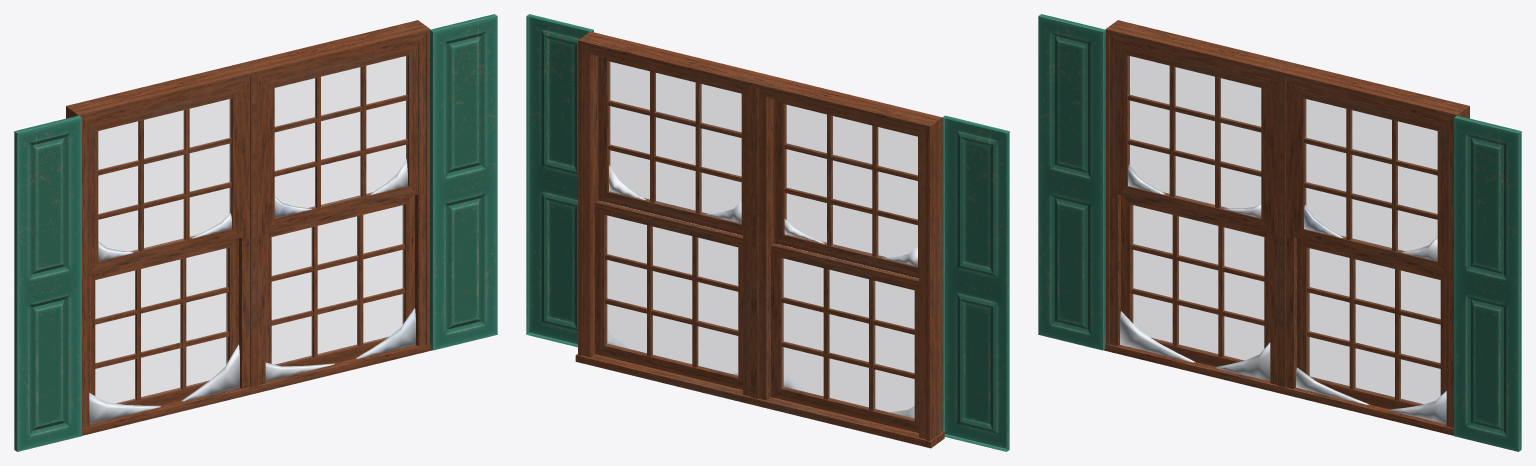
The model's file is cabin_window.fbx.
3 renders of one model, left to right at view 1: azimuth 30°, elevation 25°; view 2: azimuth 150°, elevation 25°; view 3: azimuth 330°, elevation 25°, orthographic.
Parts seen in each view (by area): view 1: window; view 2: window; view 3: window.
Part boxes in pixels (<box>): window: <box>14,14,497,451</box>; window: <box>526,14,1009,451</box>; window: <box>1038,14,1521,451</box>.
Bounding box in the file's own units: 259 × 165 × 15.04.
